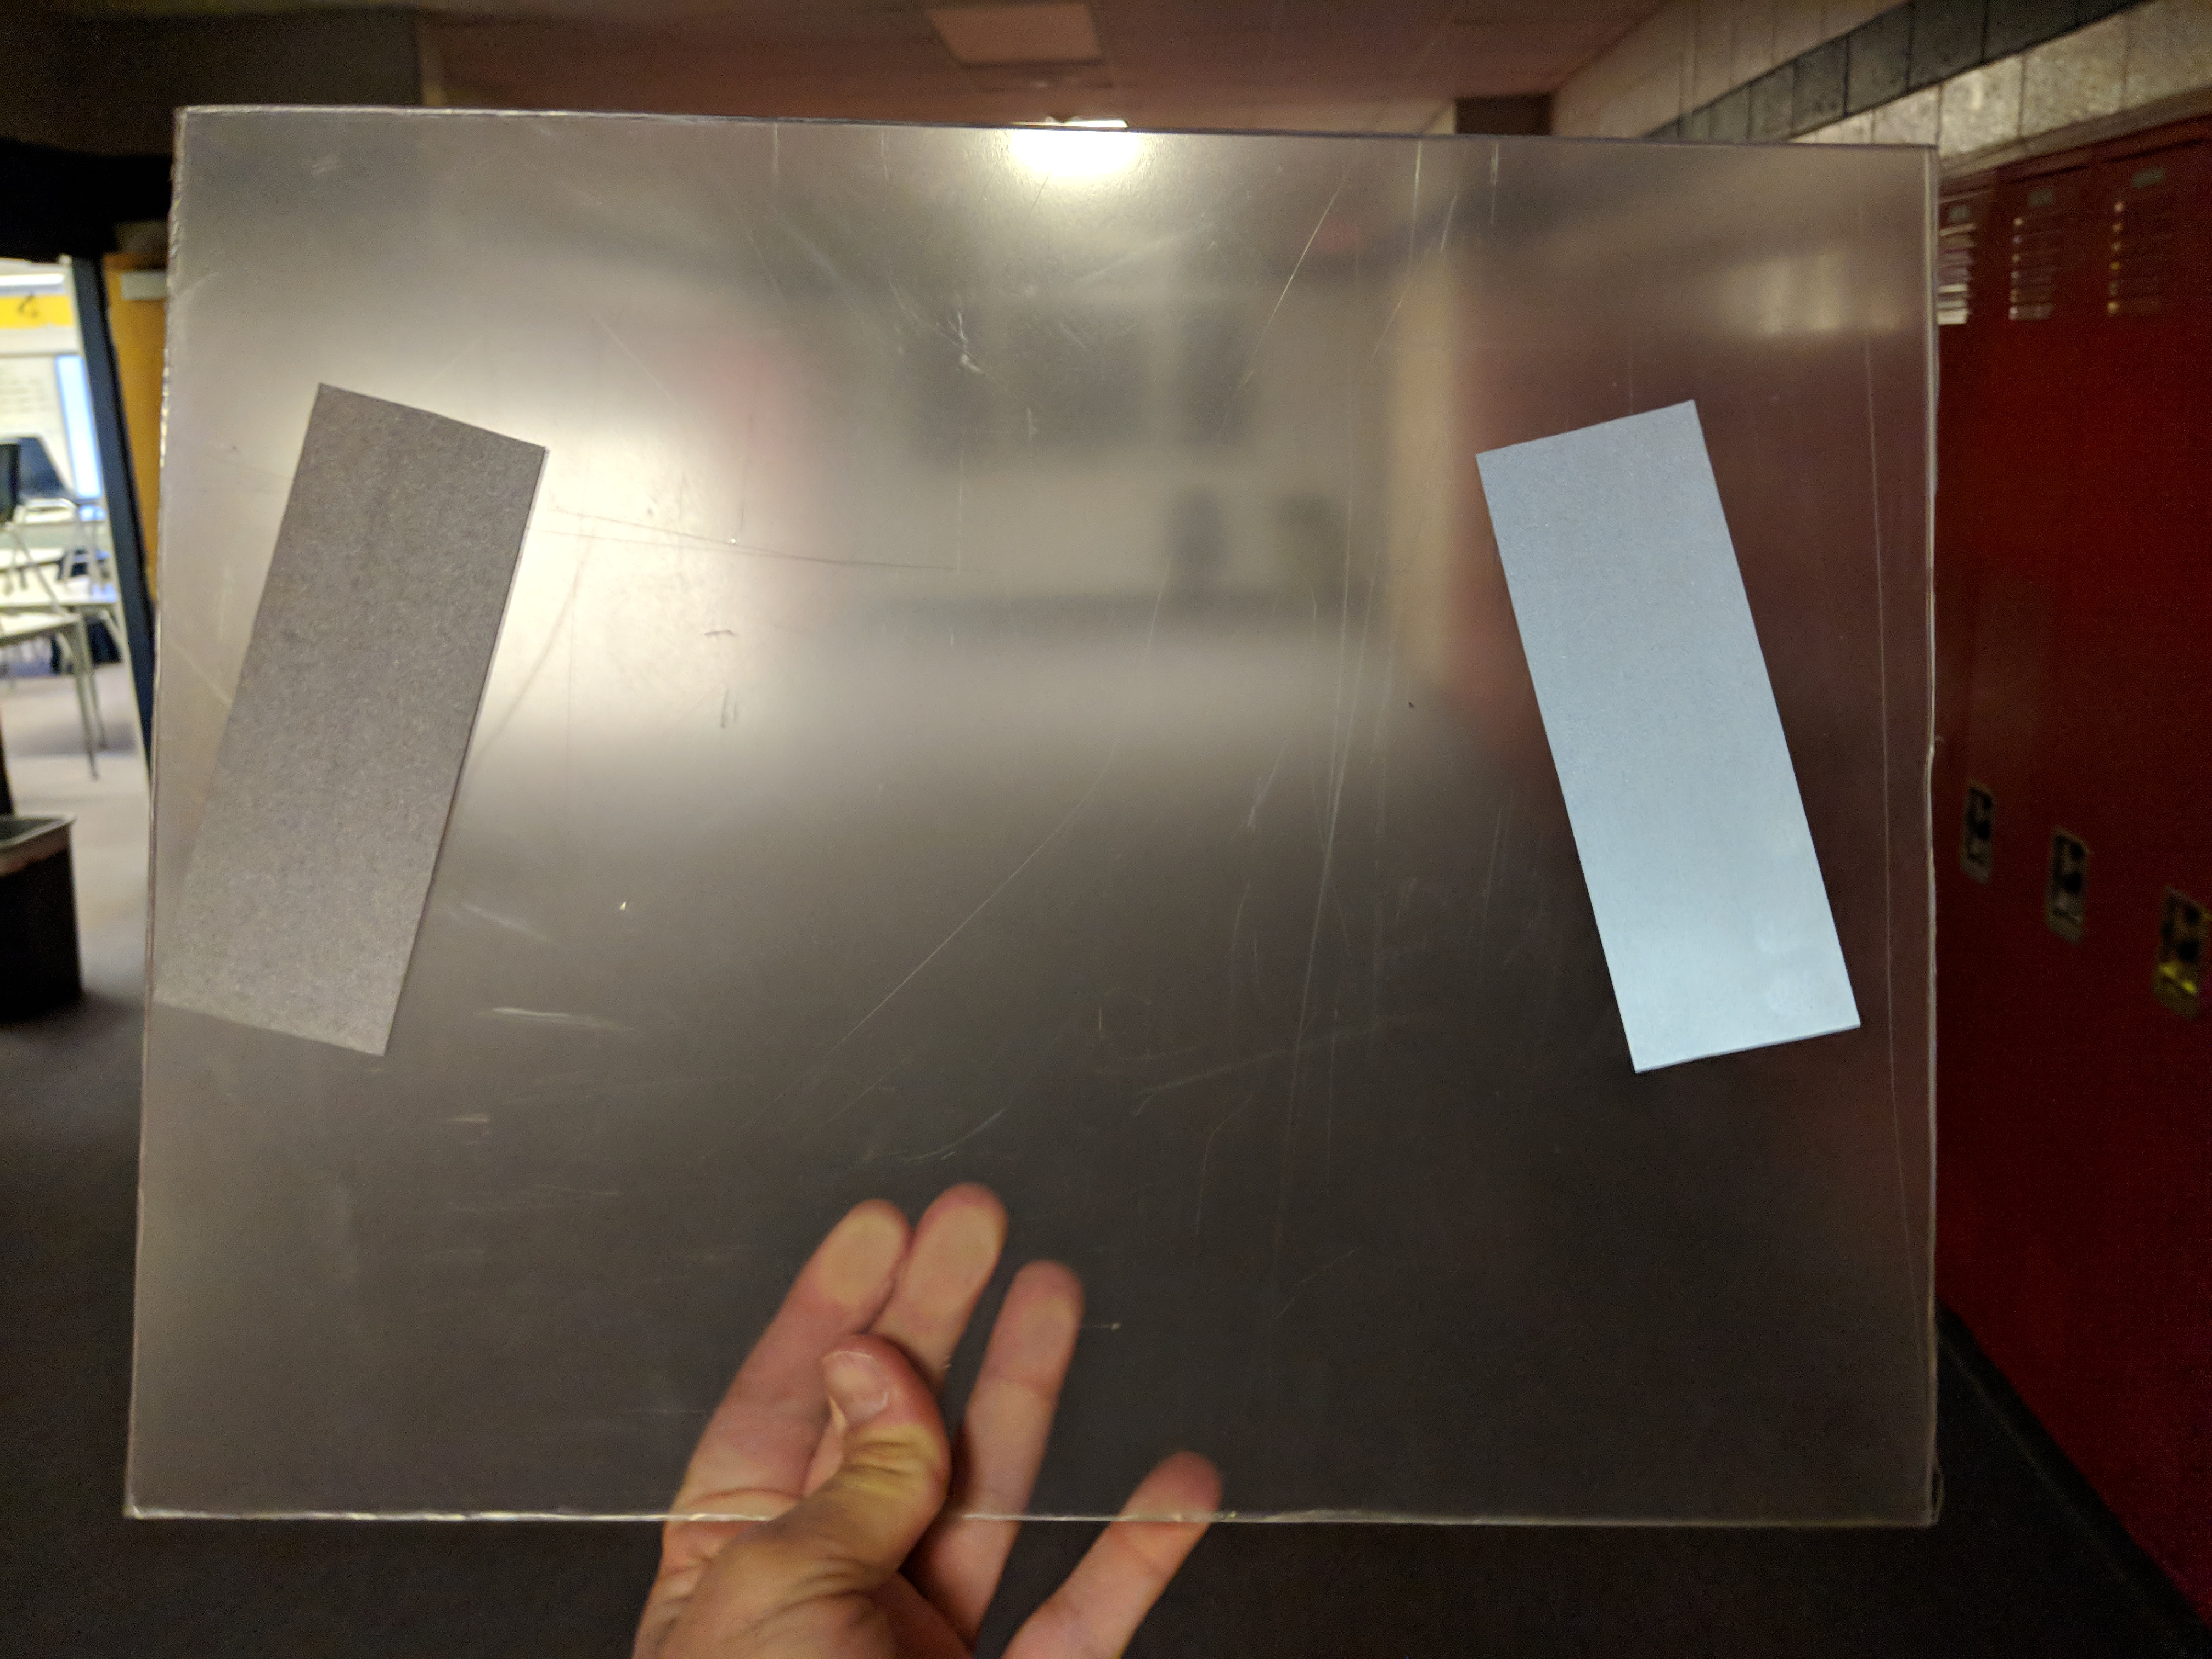vision_target: (146, 364, 1872, 1101)
